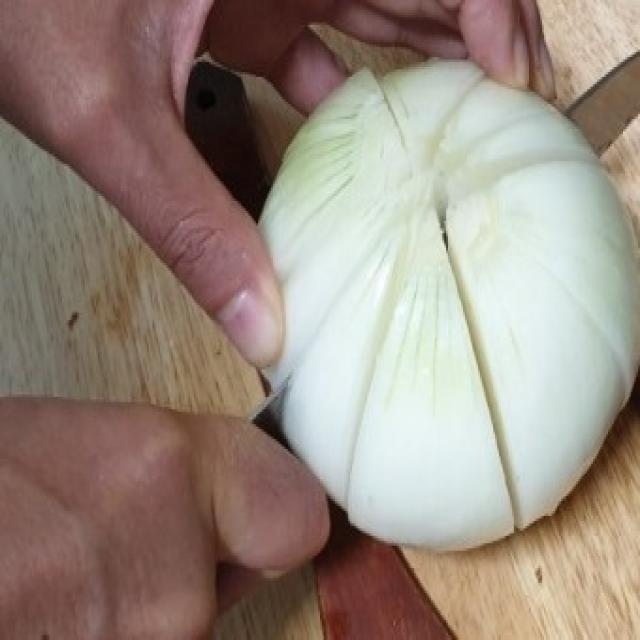onion: (226, 39, 640, 558)
